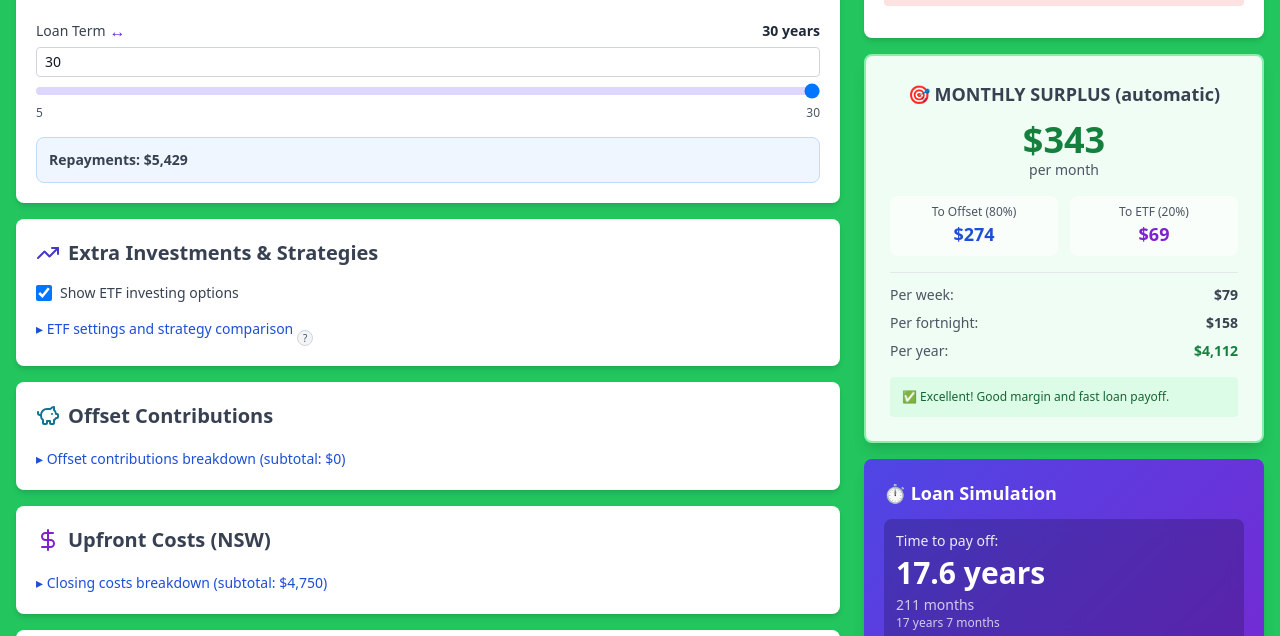
Emergency/Vacancy Buffer settlement-shortfall display (TODO-149) › the risk-tolerance panel agrees with the Health Check panel on a settlement shortfall
(page scrolled)
Click the button "▸ ETF settings and strategy comparison".
click(165, 329)  # box [36,319,293,339]
(page scrolled)
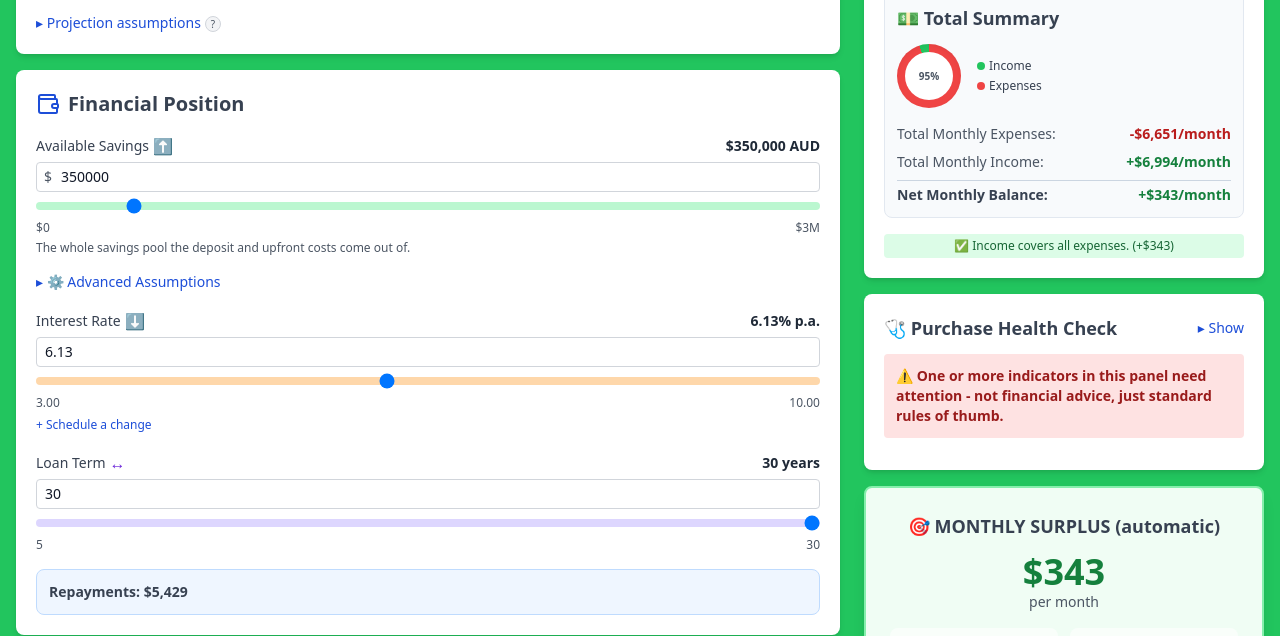
Click the button "▸ Show".
click(1221, 328)  # box [1198,318,1244,338]
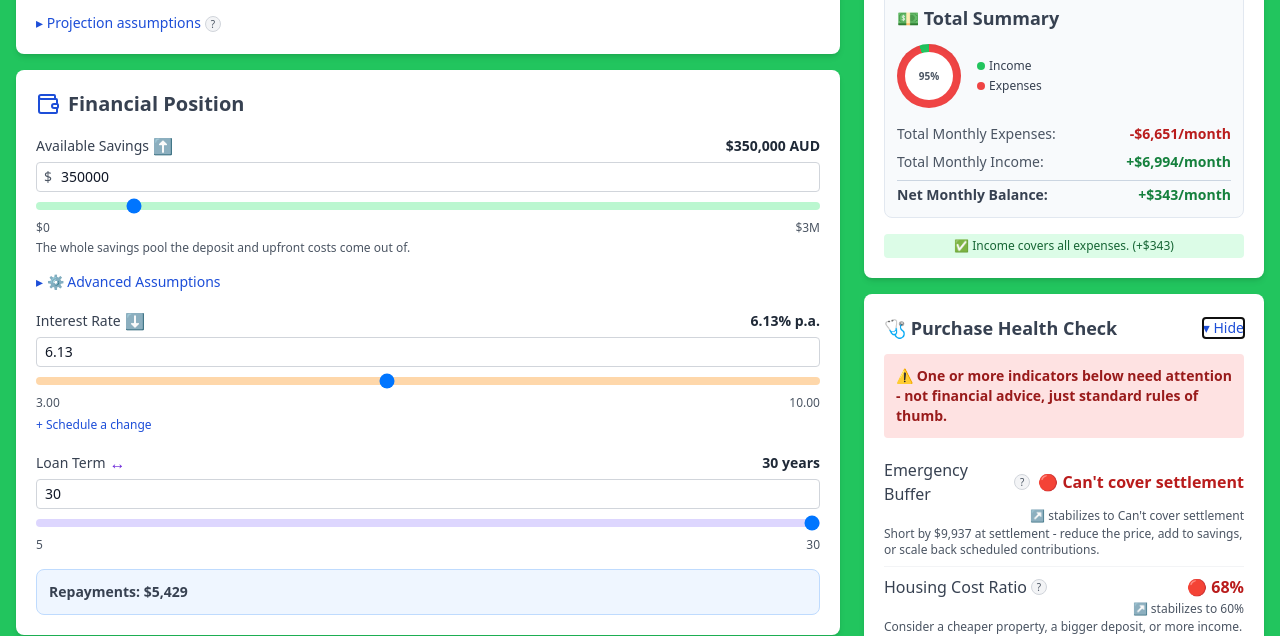
Now the text "🔴 Can't cover settlement" is shown, box [1038,470,1244,494]
